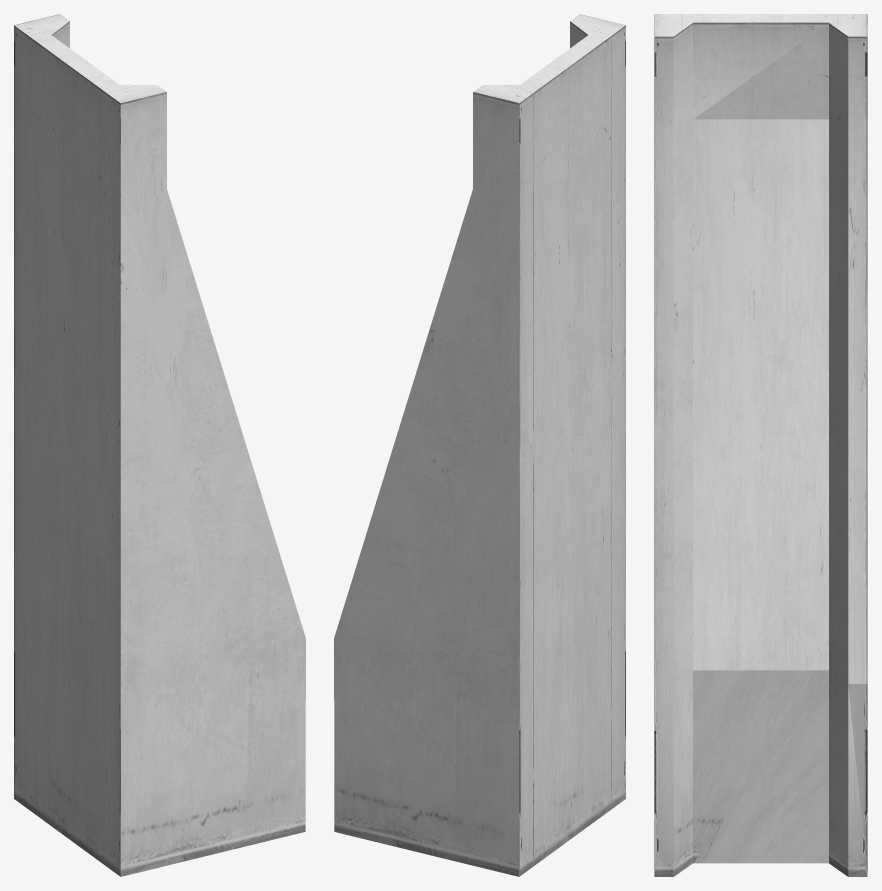
Rendered from PILLAR_1X4_A.FBX.
The picture shows the model from 3 angles, left to right: view 1: azimuth 30°, elevation 25°; view 2: azimuth 150°, elevation 25°; view 3: azimuth 270°, elevation 25°; orthographic projection.
Visible parts, largest first — view 1: PILLAR_1X4_A; view 2: PILLAR_1X4_A; view 3: PILLAR_1X4_A.
Part boxes in pixels (<box>): PILLAR_1X4_A: <box>14,14,305,876</box>; PILLAR_1X4_A: <box>334,14,625,876</box>; PILLAR_1X4_A: <box>654,14,867,876</box>.
Bounding box in the file's own units: 1 × 4 × 1.
